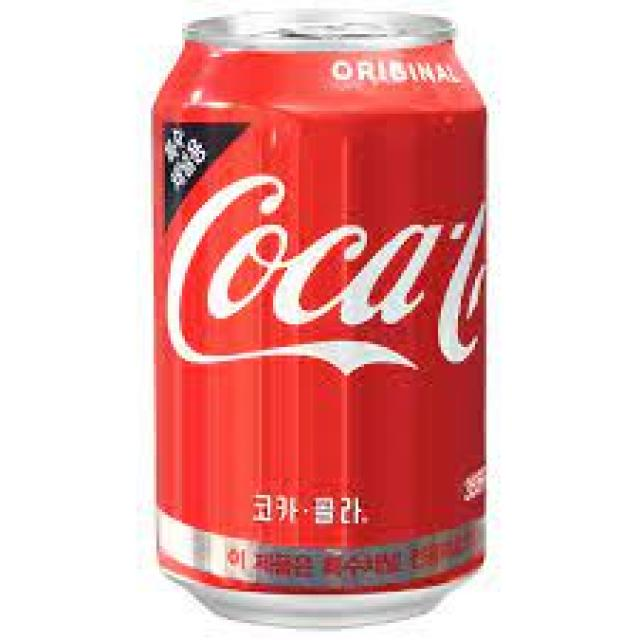Coca-Cola: (145, 0, 496, 633)
